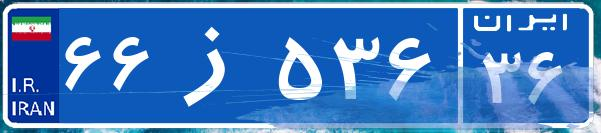3: (330, 28, 385, 110), (475, 38, 525, 113)
5: (273, 28, 330, 110)
6: (385, 28, 445, 110), (57, 26, 110, 107), (110, 28, 158, 105), (525, 38, 570, 115)
ز: (158, 15, 273, 115)
